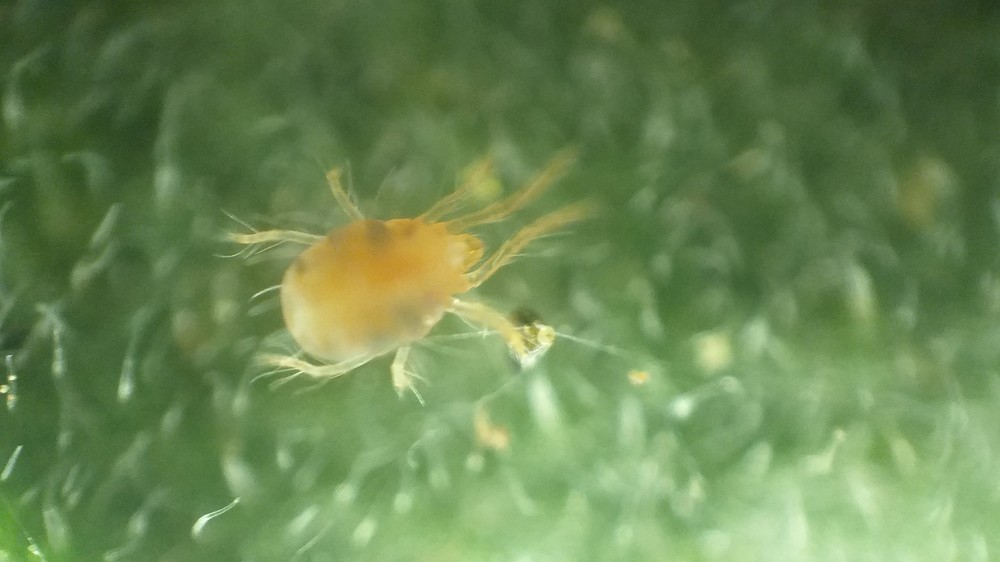Aracnido Rojo: (194, 135, 635, 418)
